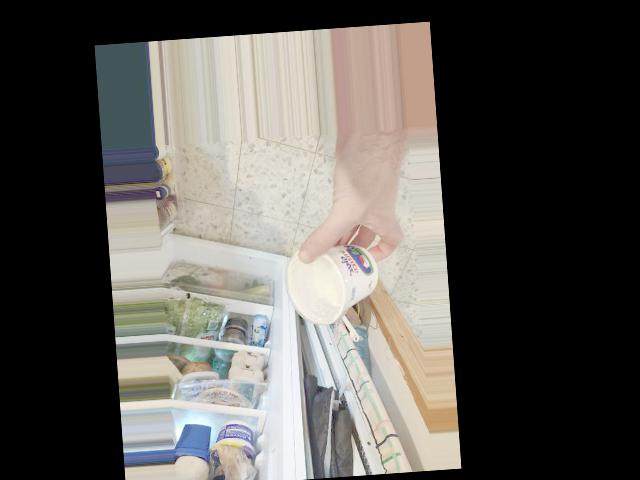cotage: (286, 239, 380, 320)
